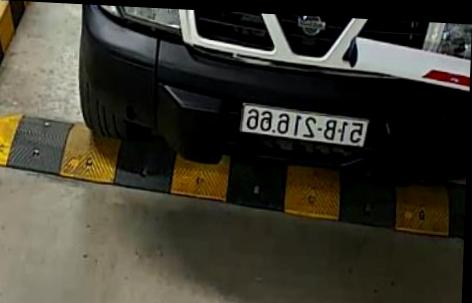License_Plate: (236, 105, 370, 148)
